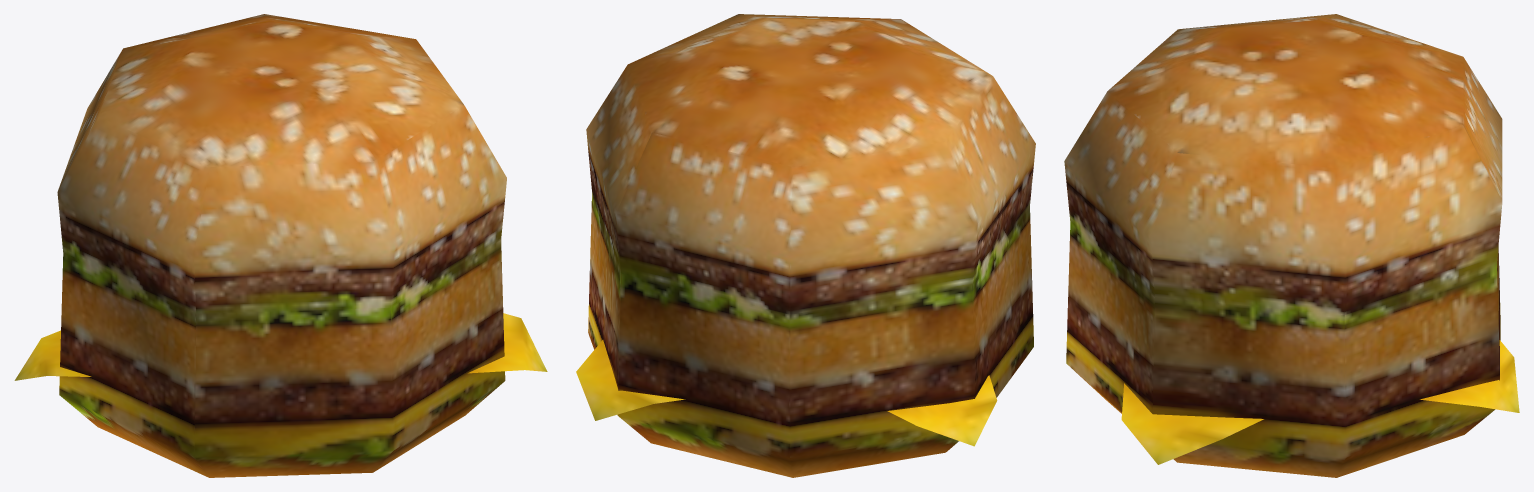
File: Hamburger.fbx
3 views of the same model, side by side, from view 1: azimuth 30°, elevation 25°; view 2: azimuth 150°, elevation 25°; view 3: azimuth 270°, elevation 25° (orthographic).
Visible parts, largest first — view 1: Hamburger; view 2: Hamburger; view 3: Hamburger.
Part boxes in pixels (x1,y1,x2,y2): Hamburger: (14,14,547,477); Hamburger: (576,14,1035,477); Hamburger: (1064,14,1519,477).
Bounding box in the file's own units: 27.04 × 20.78 × 25.35.
